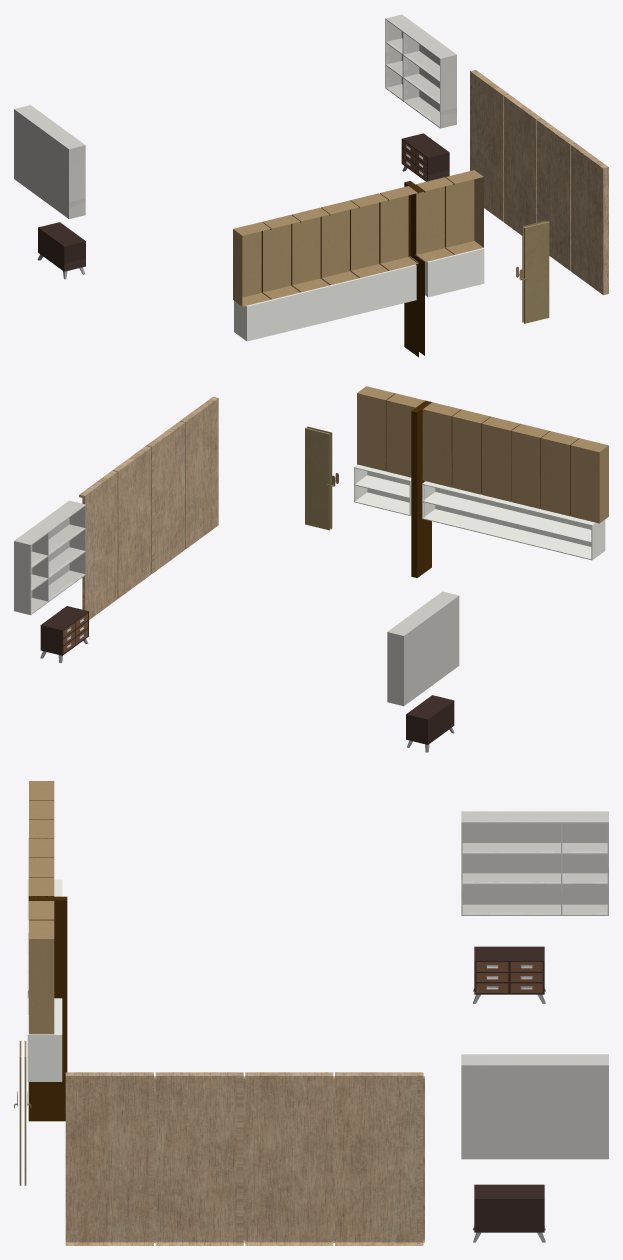
The model's file is cajonera.gltf.
3 views of the same model, one above another, from view 1: azimuth 30°, elevation 25°; view 2: azimuth 150°, elevation 25°; view 3: azimuth 270°, elevation 25° (orthographic). The views are drawn at different scales.
Parts seen in each view (by area): view 1: placar superior uv, placar superior uv.001, Cubo A y B.003, Cubo A y B.002, Cubo A y B.001, cajonera, cajonera.001, cajonera Tapa.001; view 2: placar superior uv, placar superior uv.001, Cubo A y B.003, Cubo A y B.001, Cubo A y B.002, cajonera, cajonera.001, cajonera Tapa.001; view 3: placar superior uv.001, Cubo A y B.002, Cubo A y B.001, placar superior uv, cajonera.001, Cubo A y B.003, cajonera, cajonera Tapa.
Part boxes in pixels (box(x1,y1,x2,y2)): placar superior uv: box(233, 170, 483, 357); placar superior uv.001: box(470, 70, 608, 323); Cubo A y B.003: box(234, 248, 484, 341); Cubo A y B.002: box(385, 14, 456, 128); Cubo A y B.001: box(14, 105, 85, 218); cajonera: box(37, 222, 85, 279); cajonera.001: box(401, 133, 449, 181); cajonera Tapa.001: box(402, 141, 427, 180); placar superior uv: box(357, 386, 608, 577); placar superior uv.001: box(79, 396, 338, 619); Cubo A y B.003: box(354, 464, 605, 560); Cubo A y B.001: box(387, 591, 459, 706); Cubo A y B.002: box(14, 500, 85, 615); cajonera: box(406, 695, 454, 752); cajonera.001: box(40, 606, 88, 662); cajonera Tapa.001: box(63, 613, 87, 653); placar superior uv.001: box(14, 1041, 424, 1245); Cubo A y B.002: box(461, 1054, 608, 1159); Cubo A y B.001: box(461, 811, 608, 915); placar superior uv: box(28, 781, 67, 1121); cajonera.001: box(473, 1184, 545, 1242); Cubo A y B.003: box(27, 879, 62, 1081); cajonera: box(473, 946, 545, 1003); cajonera Tapa: box(476, 962, 542, 992).
Bounding box in the file's own units: 66.77 × 26.77 × 65.35.
10 materials, 10 textured.
